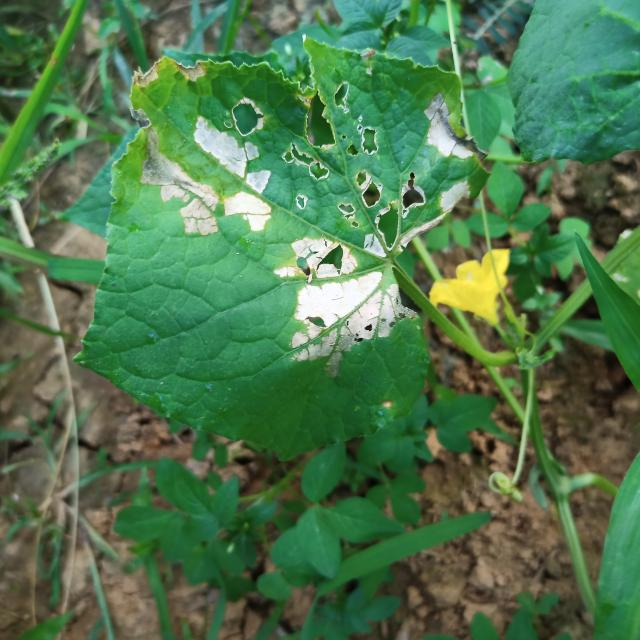disease_cucumber: (128, 58, 468, 245), (267, 222, 412, 376)
